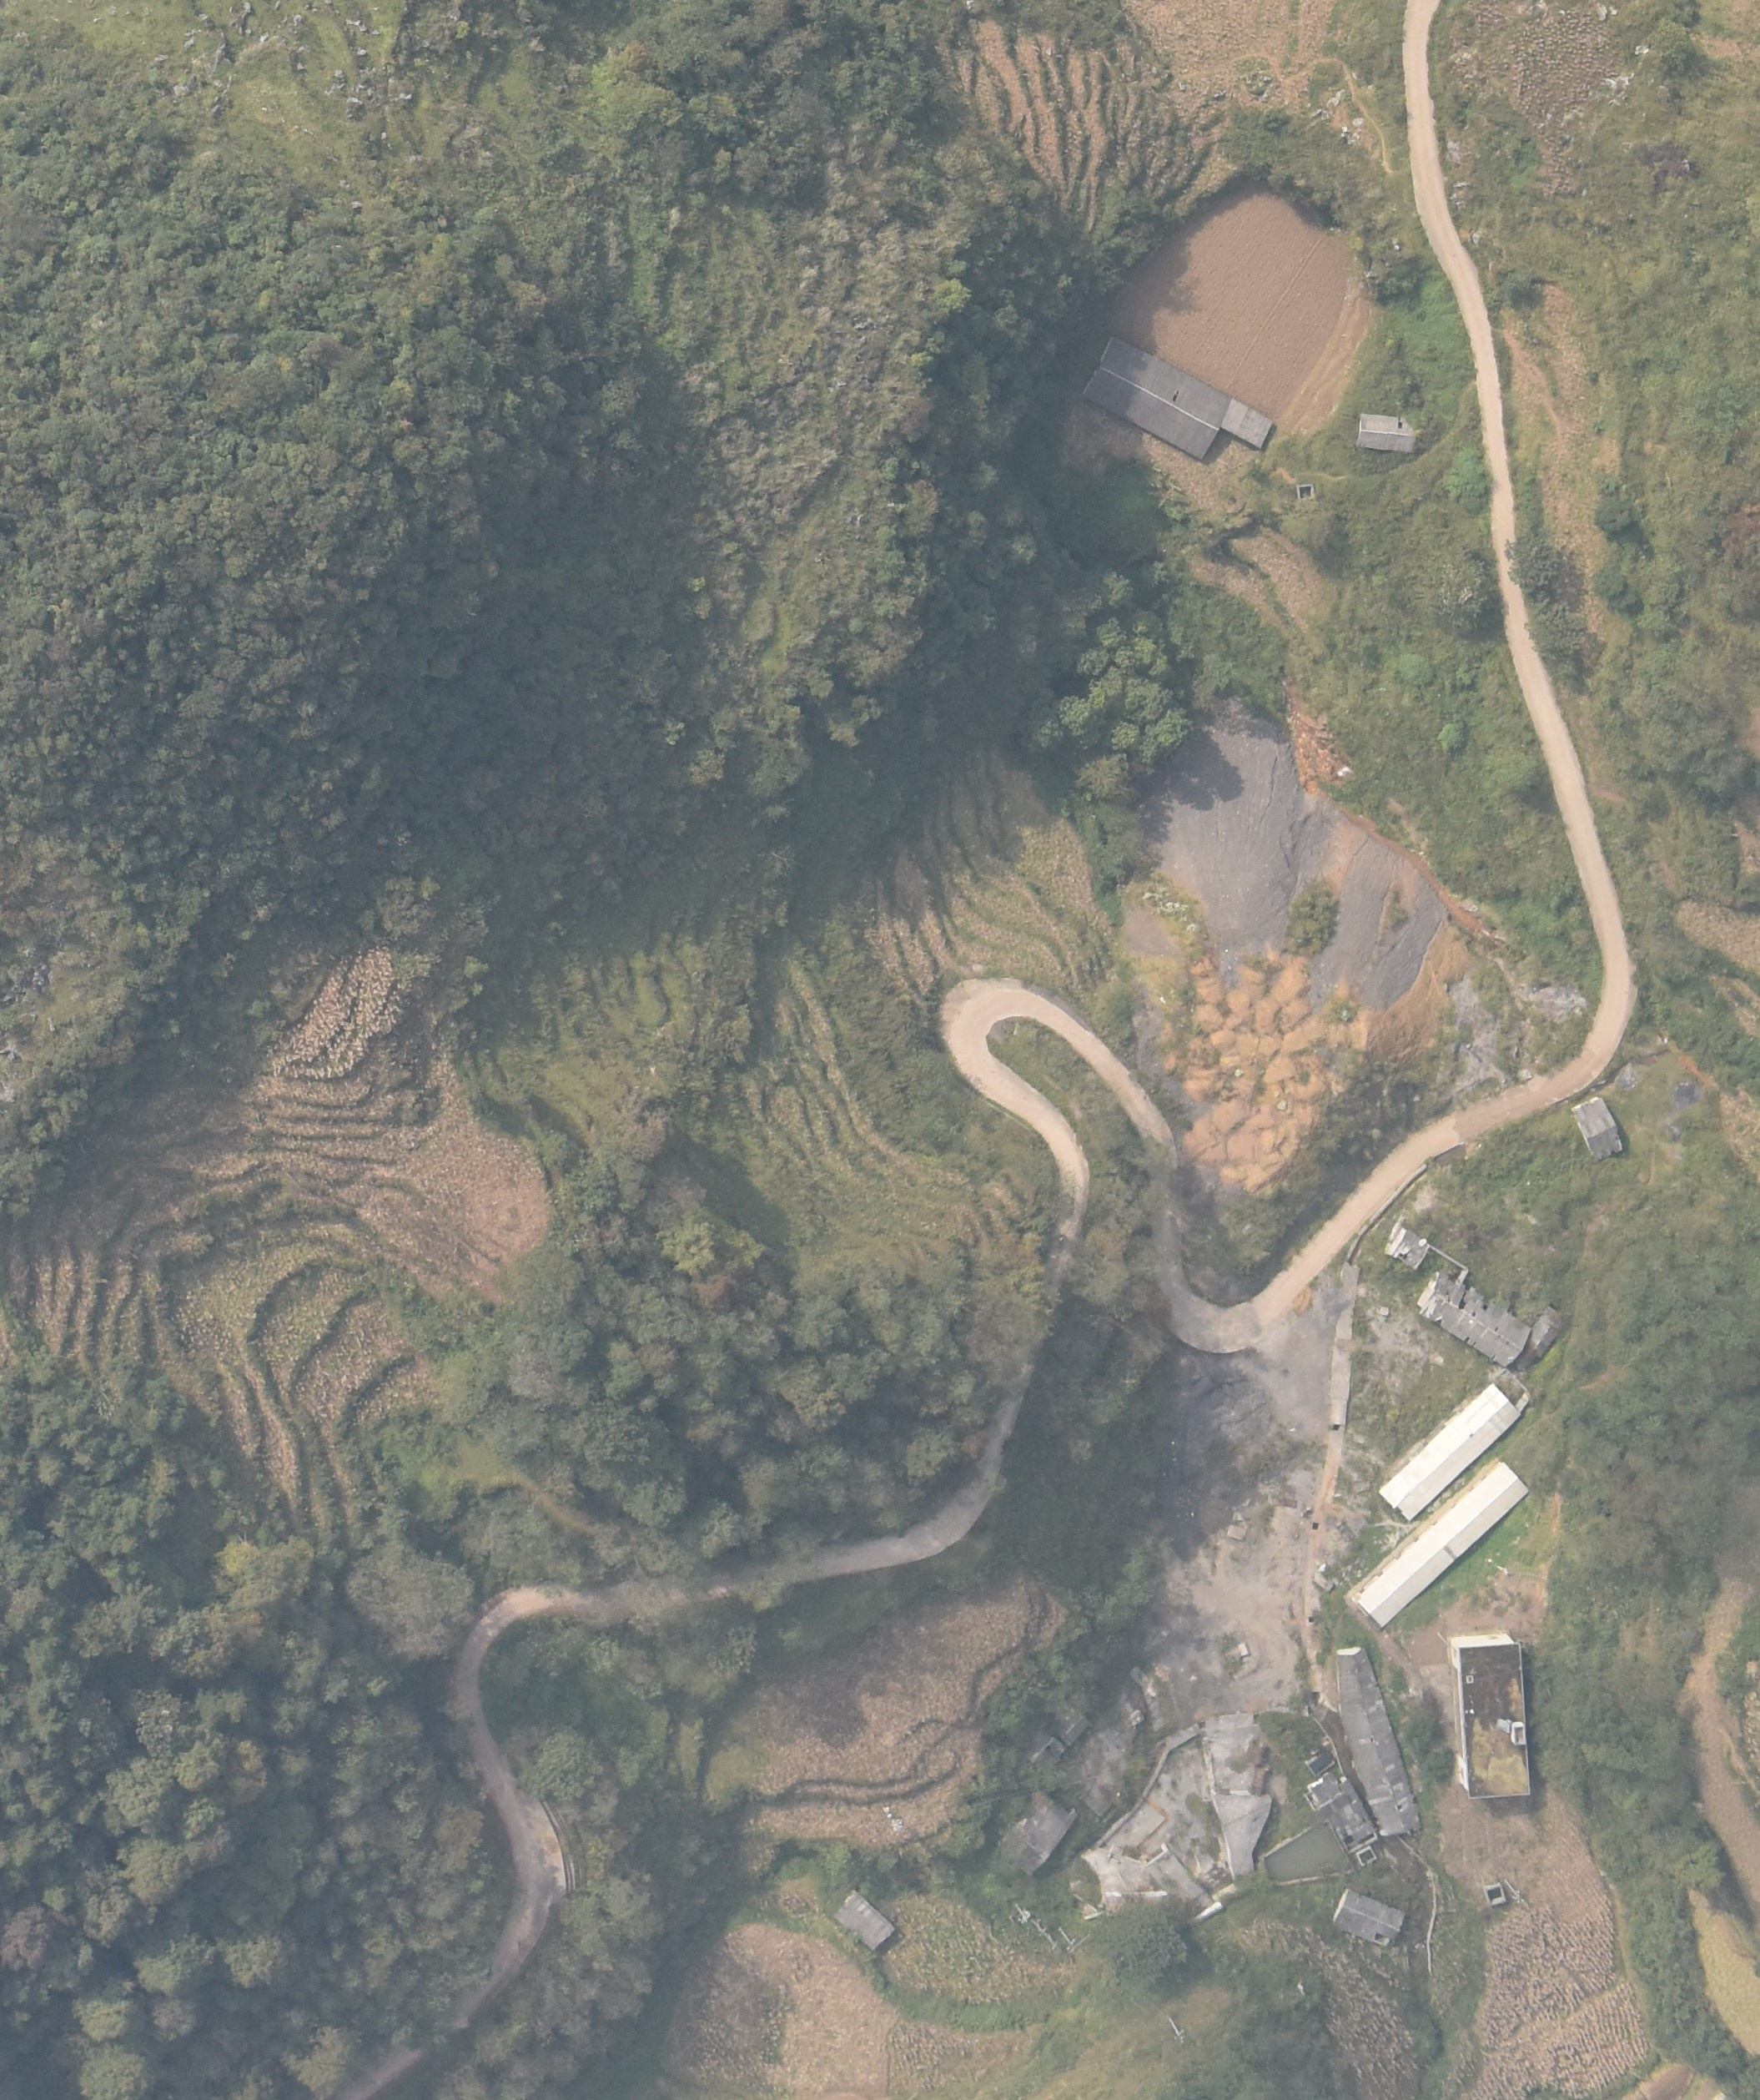building: (1083, 337, 1233, 459), (1337, 1646, 1421, 1835), (1447, 1634, 1530, 1800), (1420, 1273, 1530, 1365), (1310, 1772, 1378, 1868), (995, 1793, 1074, 1873), (1332, 1889, 1404, 1946), (829, 1889, 896, 1948), (1573, 1098, 1622, 1159), (1220, 400, 1275, 447), (1355, 414, 1416, 450), (1386, 1229, 1432, 1267), (1530, 1306, 1559, 1358), (1482, 1882, 1505, 1904)
cable-tower: (1030, 1920, 1060, 1950), (880, 1805, 903, 1833), (1166, 2016, 1187, 2042), (1058, 1927, 1076, 1952), (1014, 1903, 1030, 1922)
prefabricated-house: (1355, 1463, 1530, 1627), (1379, 1383, 1531, 1520)
